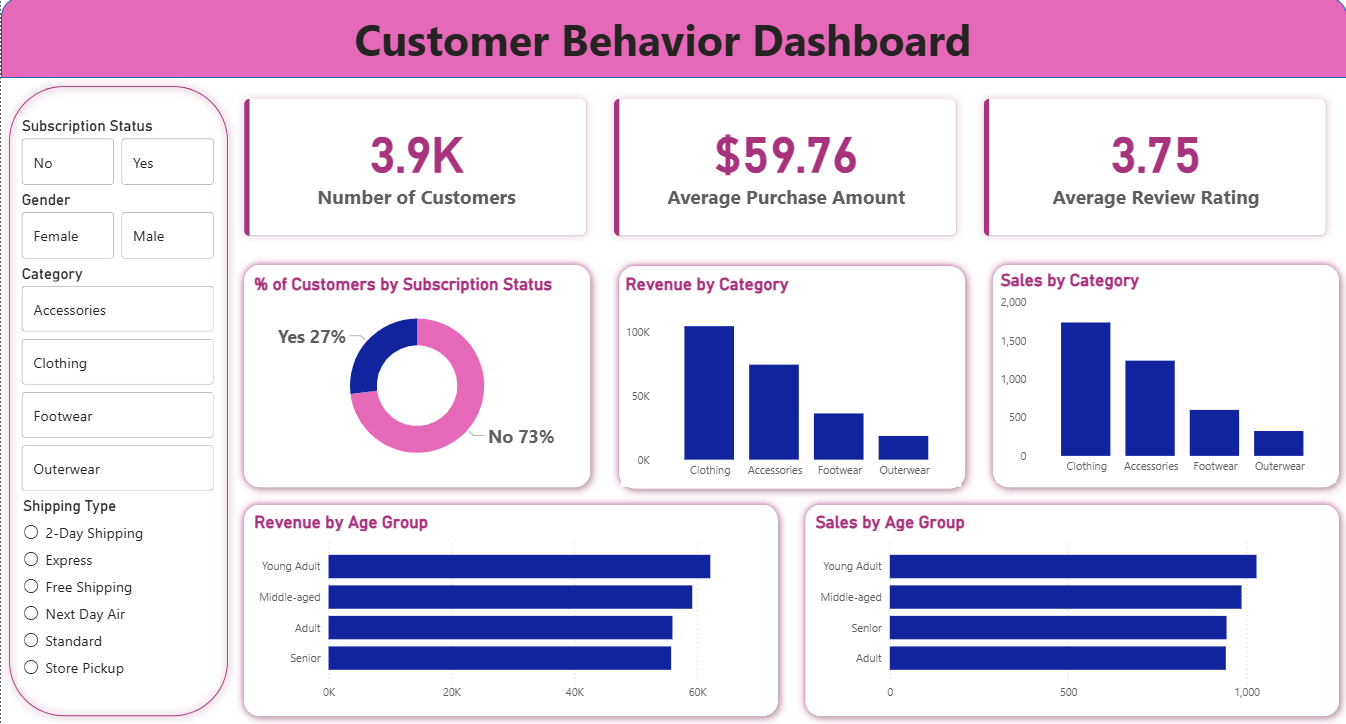

The page's visual inventory and layout, read from the dashboard file:
{"tool":"powerbi","page":{"name":"Page 1","canvas":[1500,820],"ordinal":0},"visuals":[{"type":"shape","box":[0,9.7,1499.9,90.5],"z":0},{"type":"textbox","box":[0,19.5,1474.8,80.8],"z":1000},{"type":"cardVisual","fields":{"Data":["public customer.Number of Customers","public customer.Average Purchase Amount","public customer.Average Review Rating"]},"box":[247.9,100.3,1252,199.2],"z":2000},{"type":"shape","box":[261.8,299.4,403.9,266],"z":3000},{"type":"donutChart","title":"% of Customers by Subscription Status ","fields":{"Category":["public customer.subscription_status"],"Y":["CountNonNull(public customer.customer_id)"]},"box":[277.1,318.9,373.2,227],"z":4000},{"type":"shape","box":[1096,299.4,403.9,266],"z":5000},{"type":"shape","box":[678.9,300.8,403.9,266],"z":6000},{"type":"clusteredColumnChart","title":"Revenue by Category","fields":{"Y":["Sum(public customer.purchase_amount)"],"Category":["public customer.category"]},"box":[690.8,318.9,378.8,236.8],"z":7000},{"type":"clusteredColumnChart","title":"Sales by Category","fields":{"Y":["CountNonNull(public customer.customer_id)"],"Category":["public customer.category"]},"box":[1108.6,314.7,378.8,236.8],"z":8000},{"type":"shape","box":[0,100.3,261.8,720],"z":9000},{"type":"advancedSlicerVisual","fields":{"Values":["public customer.subscription_status"]},"box":[18.1,143.4,224.2,82.2],"z":10000},{"type":"advancedSlicerVisual","fields":{"Values":["public customer.gender"]},"box":[18.1,225.6,224.2,82.2],"z":11000},{"type":"advancedSlicerVisual","fields":{"Values":["public customer.category"]},"box":[18.1,307.8,224.2,257.6],"z":12000},{"type":"listSlicer","fields":{"Values":["public customer.shipping_type"]},"box":[19.5,566.8,224.2,211.7],"z":13000},{"type":"shape","box":[261.8,566.8,612.8,253.5],"z":14000},{"type":"shape","box":[887.1,566.8,612.8,253.5],"z":15000},{"type":"clusteredBarChart","title":"Sales by Age Group","fields":{"Y":["CountNonNull(public customer.customer_id)"],"Category":["public customer.age_group"]},"box":[902.5,583.5,584.9,220],"z":16000},{"type":"clusteredBarChart","title":"Revenue by Age Group","fields":{"Y":["Sum(public customer.purchase_amount)"],"Category":["public customer.age_group"]},"box":[277.1,583.5,582.1,220],"z":17000}]}

Visuals, with their boxes in screenshot pixels (x1, y1, x2, y2), scaled from the page's 1500x820 canvas onto the 1346x724 screenshot:
shape: {"x1": 0, "y1": 9, "x2": 1345, "y2": 88}
textbox: {"x1": 0, "y1": 17, "x2": 1323, "y2": 89}
cardVisual - public customer.Number of Customers x public customer.Average Purchase Amount: {"x1": 222, "y1": 89, "x2": 1345, "y2": 264}
shape: {"x1": 235, "y1": 264, "x2": 597, "y2": 499}
"% of Customers by Subscription Status " donutChart: {"x1": 249, "y1": 282, "x2": 584, "y2": 482}
shape: {"x1": 983, "y1": 264, "x2": 1345, "y2": 499}
shape: {"x1": 609, "y1": 266, "x2": 972, "y2": 500}
"Revenue by Category" clusteredColumnChart: {"x1": 620, "y1": 282, "x2": 960, "y2": 491}
"Sales by Category" clusteredColumnChart: {"x1": 995, "y1": 278, "x2": 1335, "y2": 487}
shape: {"x1": 0, "y1": 89, "x2": 235, "y2": 723}
advancedSlicerVisual - public customer.subscription_status: {"x1": 16, "y1": 127, "x2": 217, "y2": 199}
advancedSlicerVisual - public customer.gender: {"x1": 16, "y1": 199, "x2": 217, "y2": 272}
advancedSlicerVisual - public customer.category: {"x1": 16, "y1": 272, "x2": 217, "y2": 499}
listSlicer - public customer.shipping_type: {"x1": 17, "y1": 500, "x2": 219, "y2": 687}
shape: {"x1": 235, "y1": 500, "x2": 785, "y2": 723}
shape: {"x1": 796, "y1": 500, "x2": 1345, "y2": 723}
"Sales by Age Group" clusteredBarChart: {"x1": 810, "y1": 515, "x2": 1335, "y2": 709}
"Revenue by Age Group" clusteredBarChart: {"x1": 249, "y1": 515, "x2": 771, "y2": 709}
